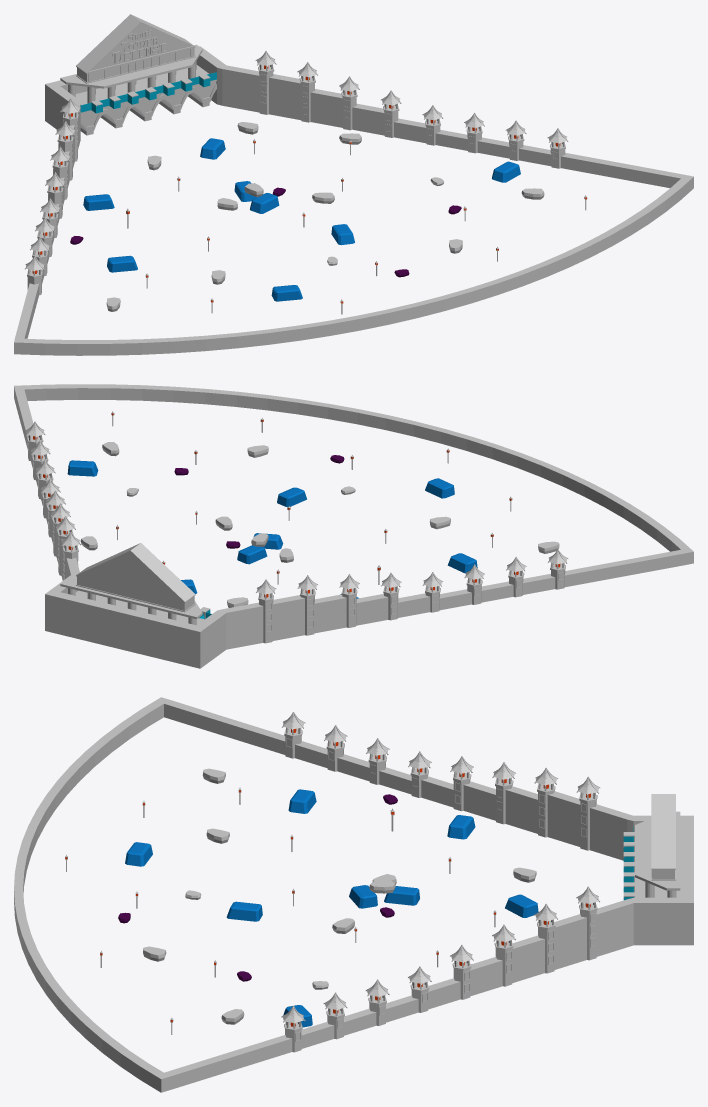
Rendered from version-2.obj.
The picture shows the model from 3 angles, top to bottom: view 1: azimuth 30°, elevation 25°; view 2: azimuth 150°, elevation 25°; view 3: azimuth 270°, elevation 25°; orthographic projection. The views are drawn at different scales.
Visible parts, largest first — view 1: Cylinder_Cylinder.001, Cube.020_Cube.001, Cube.001_Cube.002, Cube, Cube.011_Cube.007, Text, Cylinder.006_Cylinder; view 2: Cylinder_Cylinder.001, Cube.020_Cube.001, Cube, Cube.001_Cube.002, model_gemstone_blue.009_Cube.064; view 3: Cylinder_Cylinder.001, Cube.020_Cube.001, Cube, model_gemstone_blue.004_Cube.064.
Boxes of the visible parts, x1=… form: Cylinder_Cylinder.001: x1=14, y1=46, x2=693, y2=355; Cube.020_Cube.001: x1=76, y1=14, x2=195, y2=83; Cube.001_Cube.002: x1=75, y1=65, x2=216, y2=135; Cube: x1=60, y1=44, x2=202, y2=88; Cube.011_Cube.007: x1=80, y1=72, x2=216, y2=113; Text: x1=112, y1=30, x2=166, y2=63; Cylinder.006_Cylinder: x1=87, y1=62, x2=195, y2=103; Cylinder_Cylinder.001: x1=14, y1=384, x2=693, y2=668; Cube.020_Cube.001: x1=76, y1=543, x2=195, y2=612; Cube: x1=60, y1=578, x2=202, y2=619; Cube.001_Cube.002: x1=75, y1=590, x2=204, y2=624; model_gemstone_blue.009_Cube.064: x1=67, y1=460, x2=98, y2=476; Cylinder_Cylinder.001: x1=14, y1=697, x2=693, y2=1092; Cube.020_Cube.001: x1=651, y1=794, x2=675, y2=880; Cube: x1=635, y1=811, x2=680, y2=890; model_gemstone_blue.004_Cube.064: x1=226, y1=901, x2=262, y2=921.
Bounding box in the file's own units: 1994 × 262 × 1500.
